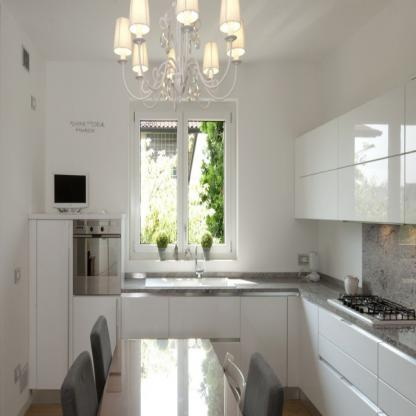Cabinet: (122, 296, 388, 416), (295, 86, 416, 225)
Window: (128, 100, 236, 257)
